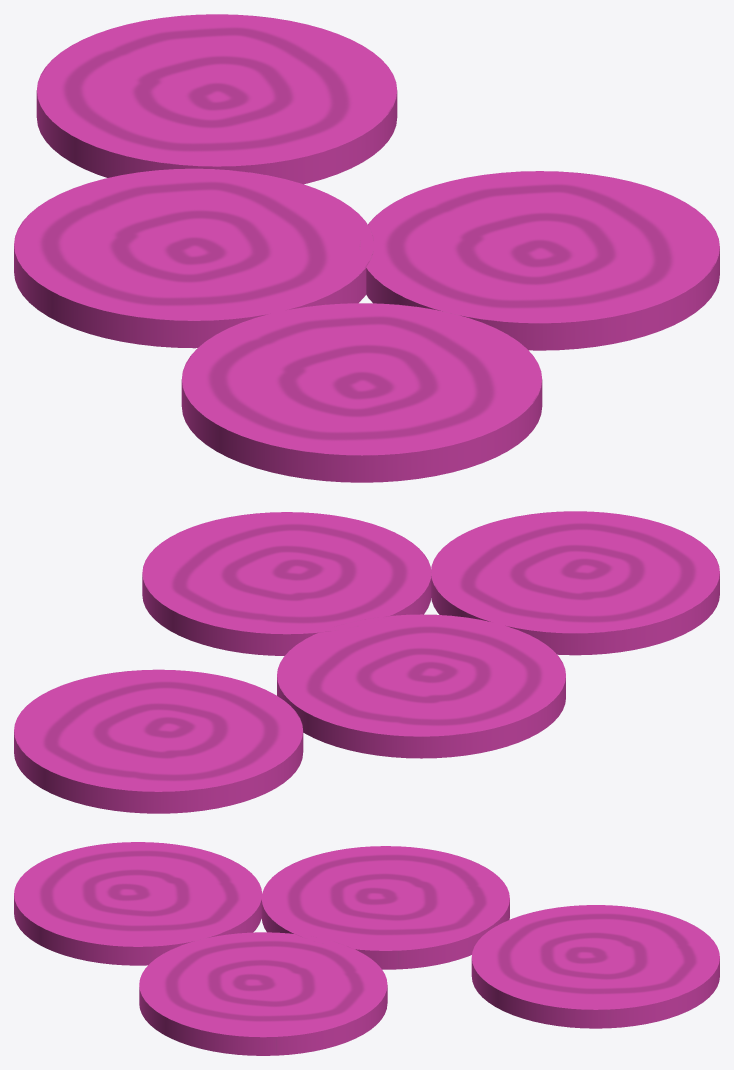
Rendered from CutBeetroots.fbx.
3 renders of one model, top to bottom at view 1: azimuth 30°, elevation 25°; view 2: azimuth 150°, elevation 25°; view 3: azimuth 270°, elevation 25°, orthographic. The views are drawn at different scales.
Visible parts, largest first — view 1: pCylinder4, pCylinder2, pCylinder1, pCylinder3; view 2: pCylinder2, pCylinder1, pCylinder4, pCylinder3; view 3: pCylinder2, pCylinder3, pCylinder4, pCylinder1.
Part boxes in pixels (x1,y1,x2,y2): pCylinder4: (181, 303, 542, 482); pCylinder2: (36, 14, 397, 184); pCylinder1: (14, 168, 373, 348); pCylinder3: (359, 171, 719, 350); pCylinder2: (14, 669, 303, 813); pCylinder1: (277, 614, 565, 758); pCylinder4: (431, 511, 719, 655); pCylinder3: (142, 512, 431, 655); pCylinder2: (471, 905, 719, 1028); pCylinder3: (139, 932, 387, 1055); pCylinder4: (14, 842, 262, 965); pCylinder1: (261, 846, 509, 969).
Bounding box in the file's own units: 2.23 × 0.1 × 3.41.
1 material, 1 textured.
